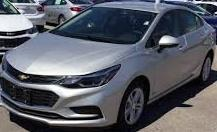Cars: (1, 3, 216, 128)
